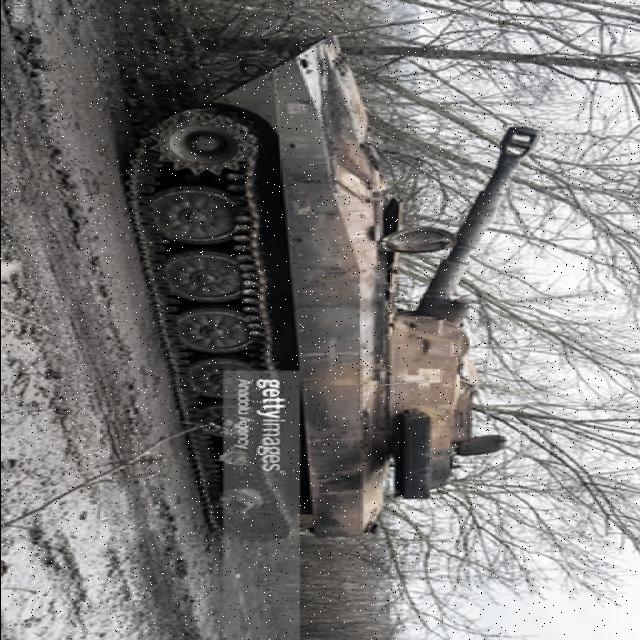ART: (120, 34, 554, 542)
